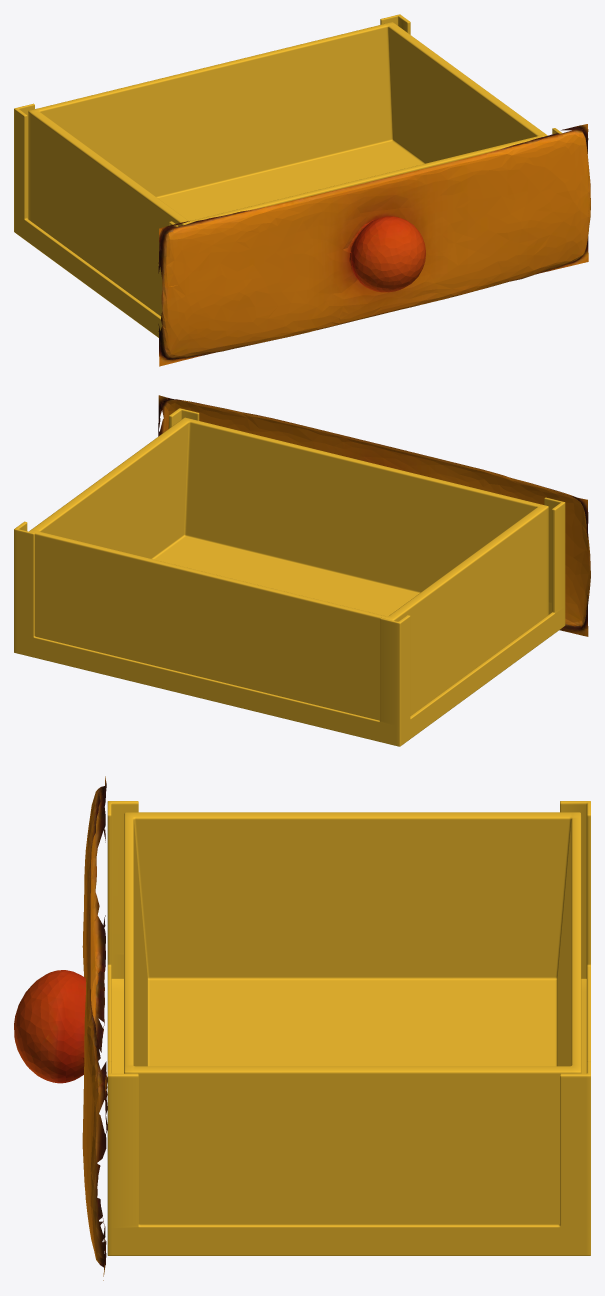
The model's file is drawer_middle.glb.
3 renders of one model, top to bottom at view 1: azimuth 30°, elevation 25°; view 2: azimuth 150°, elevation 25°; view 3: azimuth 270°, elevation 25°, orthographic. The views are drawn at different scales.
Visible parts, largest first — view 1: prefab_drawer_body_2, source_front_cap_0; view 2: prefab_drawer_body_2, source_front_cap_0; view 3: prefab_drawer_body_2, source_front_cap_0.
Part boxes in pixels (left/top/right/bottom): prefab_drawer_body_2: left=14, top=14, right=562, bottom=337; source_front_cap_0: left=158, top=124, right=590, bottom=366; prefab_drawer_body_2: left=14, top=408, right=565, bottom=746; source_front_cap_0: left=158, top=395, right=590, bottom=636; prefab_drawer_body_2: left=107, top=801, right=590, bottom=1255; source_front_cap_0: left=14, top=776, right=107, bottom=1280.
Size of the model in its own units: 0.3935 by 0.1205 by 0.314.
Materials: 2 (1 with a texture image).
